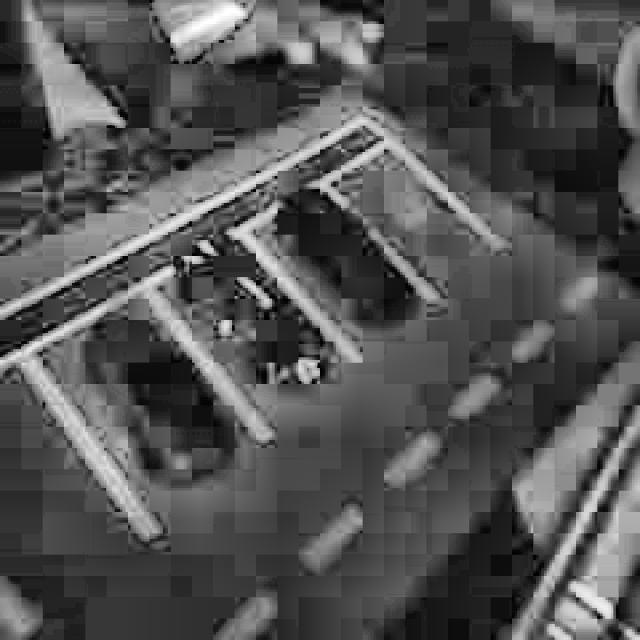car: (67, 301, 240, 489), (168, 224, 337, 401), (269, 174, 419, 336)
